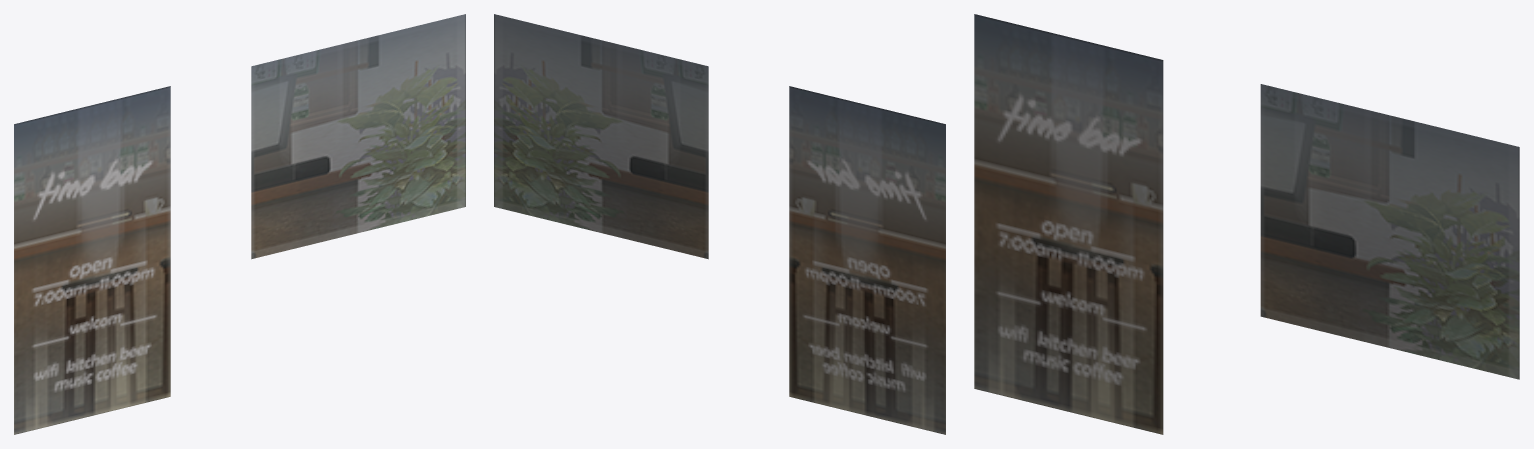
The model's file is Jiubajie_neishi04_fbx.FBX.
The picture shows the model from 3 angles, left to right: view 1: azimuth 30°, elevation 25°; view 2: azimuth 150°, elevation 25°; view 3: azimuth 330°, elevation 25°; orthographic projection. The views are drawn at different scales.
Visible parts, largest first — view 1: Jiubajie_neishi04_fbx; view 2: Jiubajie_neishi04_fbx; view 3: Jiubajie_neishi04_fbx.
Boxes of the visible parts, bbox=[...] form: Jiubajie_neishi04_fbx: bbox=[14, 14, 465, 434]; Jiubajie_neishi04_fbx: bbox=[494, 14, 945, 434]; Jiubajie_neishi04_fbx: bbox=[974, 14, 1519, 434].
Bounding box in the file's own units: 2.93 × 1.93 × 3.75e-07.
